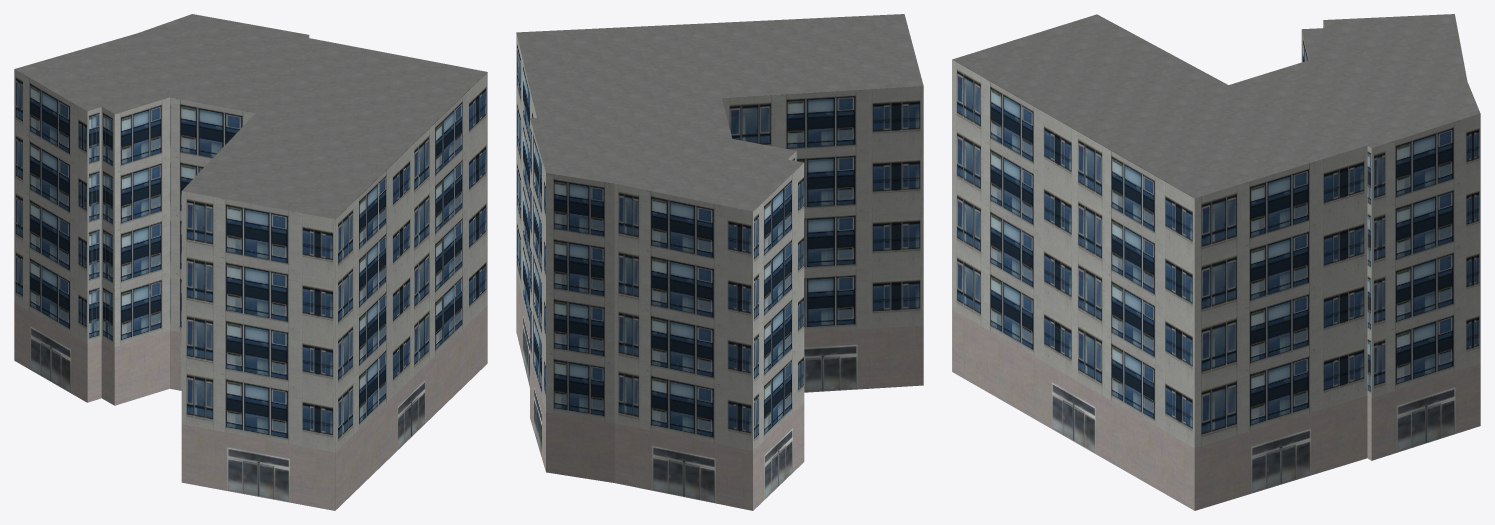
3 views of the same model, side by side, from view 1: azimuth 30°, elevation 25°; view 2: azimuth 150°, elevation 25°; view 3: azimuth 270°, elevation 25° (orthographic). The views are drawn at different scales.
Parts seen in each view (by area): view 1: BuildingMaster_2010194146094461581400000000_0, BuildingMaster_2010194146094461581400000000_1; view 2: BuildingMaster_2010194146094461581400000000_0, BuildingMaster_2010194146094461581400000000_1; view 3: BuildingMaster_2010194146094461581400000000_0, BuildingMaster_2010194146094461581400000000_1.
Part boxes in pixels (x1,y1,x2,y2): BuildingMaster_2010194146094461581400000000_0: [14, 35, 487, 510]; BuildingMaster_2010194146094461581400000000_1: [15, 14, 486, 219]; BuildingMaster_2010194146094461581400000000_0: [516, 33, 923, 510]; BuildingMaster_2010194146094461581400000000_1: [516, 14, 923, 211]; BuildingMaster_2010194146094461581400000000_0: [952, 21, 1480, 510]; BuildingMaster_2010194146094461581400000000_1: [953, 14, 1479, 197].
Bounding box in the file's own units: 22.11 × 17.5 × 26.78.
Materials: 2 (2 with a texture image).
